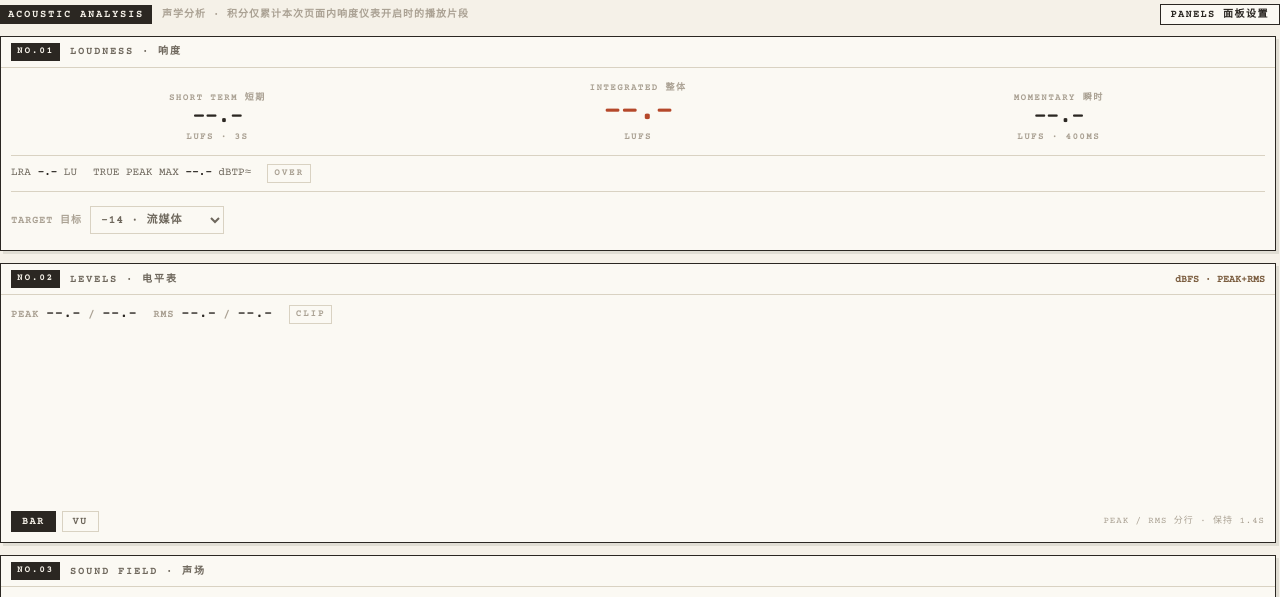
AnalysisPage (v0.4.6+) › 面板设置浮层可隐藏示波器并持久化到设置 store
This screenshot has width=1280, height=597.
Click the button "PANELS 面板设置". click: (1220, 14)
box: [1160,4,1279,24]
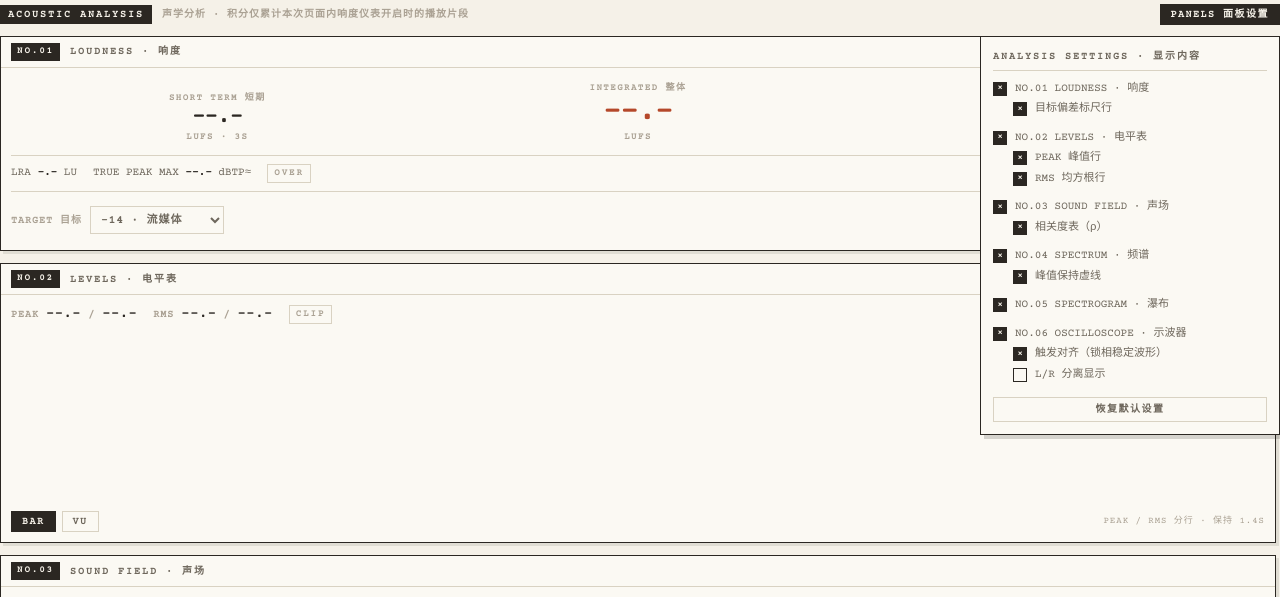
Click the checkbox labelled "× NO.06 OSCILLOSCOPE · 示波器". click: (1090, 334)
box: [993,326,1186,341]
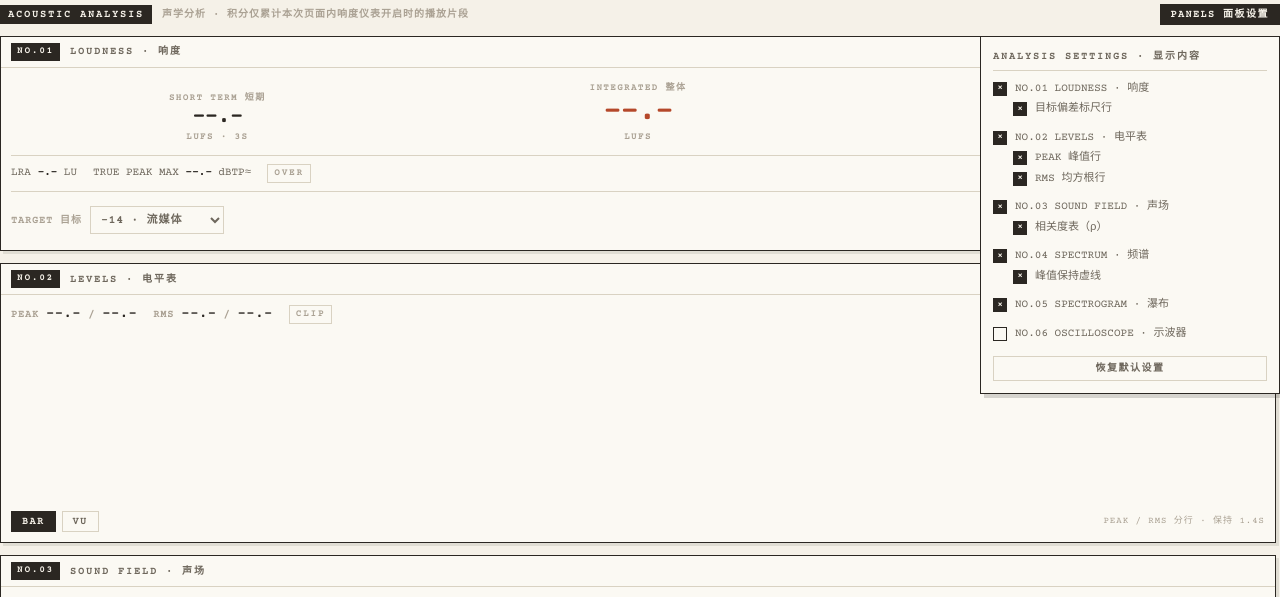
// 恢复默认后面板回归
Click the button "恢复默认设置". click: (1130, 368)
box: [993,356,1267,381]
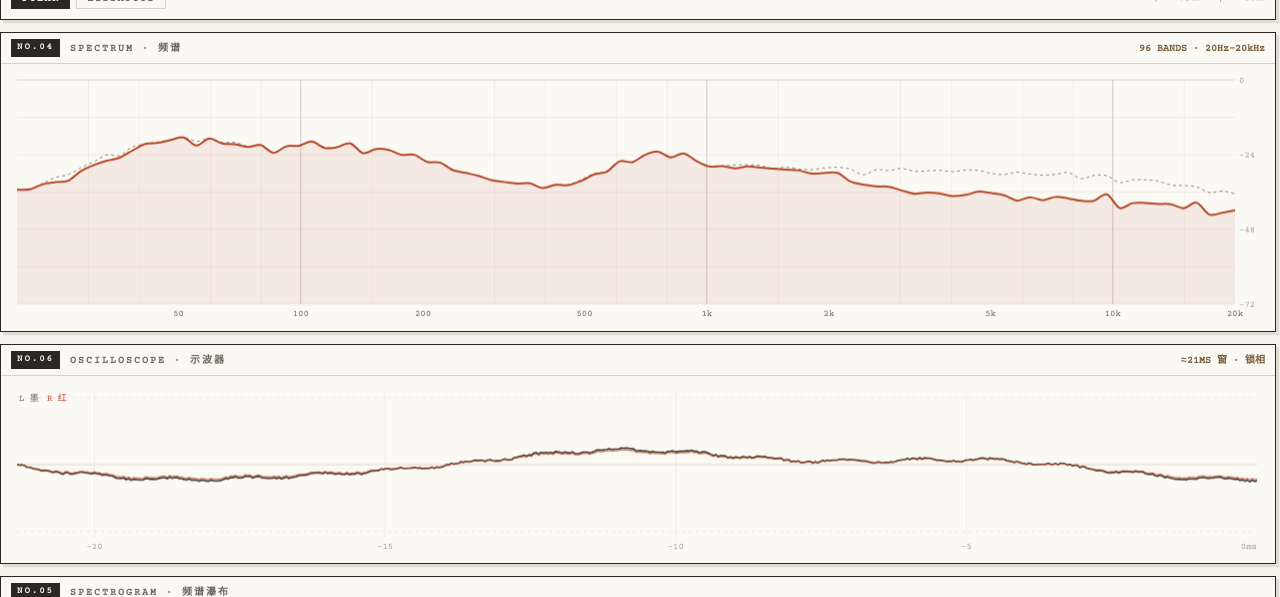
expect the heading "OSCILLOSCOPE · 示波器" is shown: met, box [70,352,226,368]
